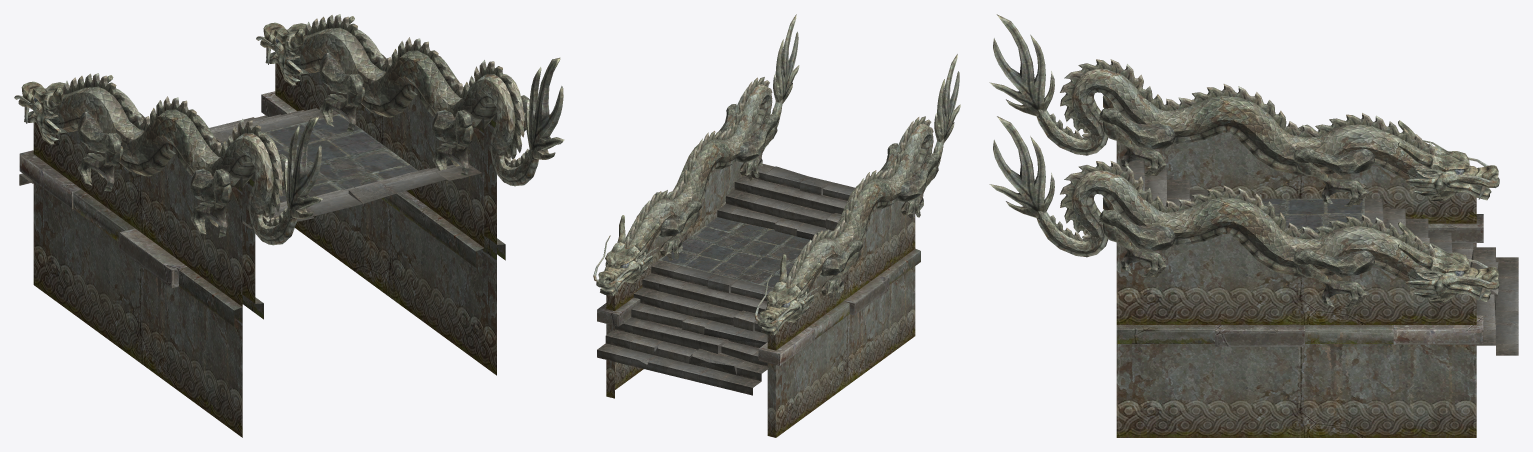
File: bg_anh_mirrorv_gs03_sm_old.FBX
3 renders of one model, left to right at view 1: azimuth 30°, elevation 25°; view 2: azimuth 150°, elevation 25°; view 3: azimuth 270°, elevation 25°, orthographic. The views are drawn at different scales.
Visible parts, largest first — view 1: bg_anh_mirrorv_gs03_sm_old; view 2: bg_anh_mirrorv_gs03_sm_old; view 3: bg_anh_mirrorv_gs03_sm_old.
Boxes of the visible parts, <box> form: bg_anh_mirrorv_gs03_sm_old: <box>14,14,564,437</box>; bg_anh_mirrorv_gs03_sm_old: <box>593,14,960,437</box>; bg_anh_mirrorv_gs03_sm_old: <box>989,14,1518,437</box>.
Bounding box in the file's own units: 446 × 502 × 753.
